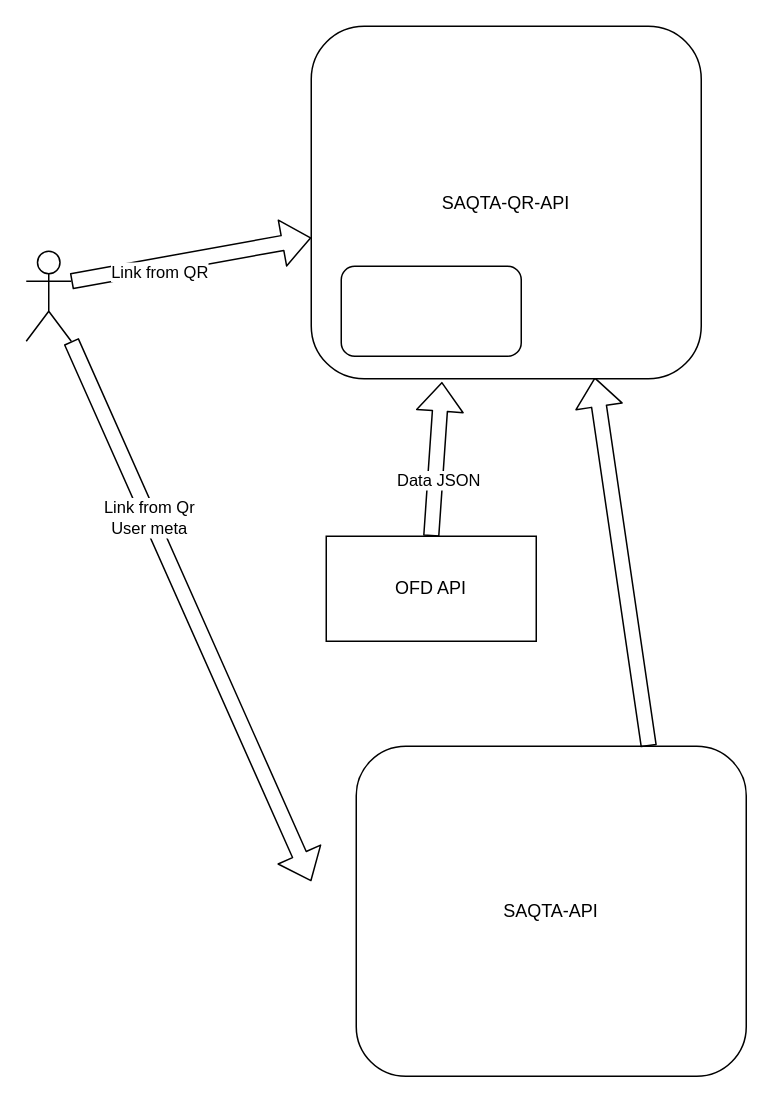
The diagram is 773 pixels wide and 1103 high, and some of its shapes have lost their labels. The centre of each missing label's shape, as x and y in pixels:
Actor: (48,295)
Collect data, parse into required format, return with GraphQL: (430,310)
